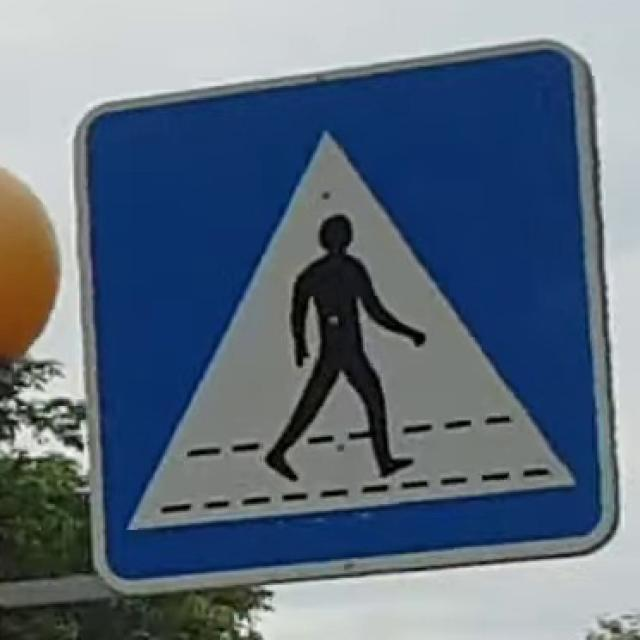zebracrossing_sign: (67, 34, 621, 596)
